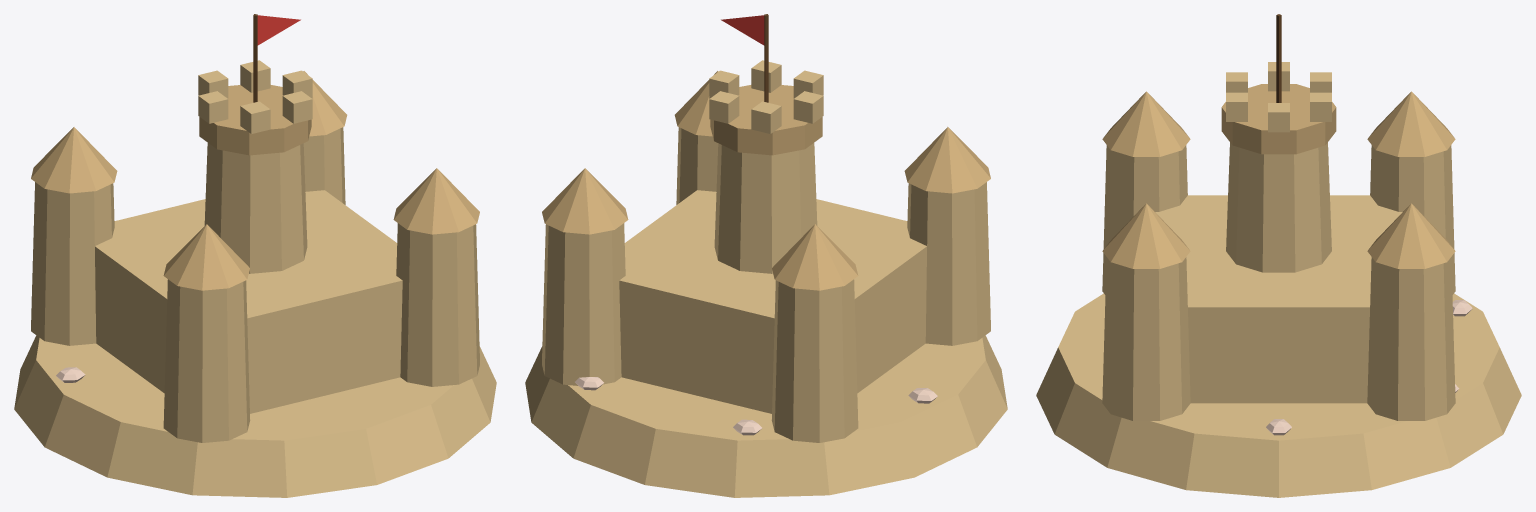
File: Prop_Sandcastle.fbx
3 renders of one model, left to right at view 1: azimuth 30°, elevation 25°; view 2: azimuth 150°, elevation 25°; view 3: azimuth 270°, elevation 25°, orthographic.
Parts seen in each view (by area): view 1: Prop_Sandcastle.001; view 2: Prop_Sandcastle.001; view 3: Prop_Sandcastle.001.
Part boxes in pixels (x1,y1,x2,y2): Prop_Sandcastle.001: [14, 14, 496, 497]; Prop_Sandcastle.001: [525, 14, 1007, 497]; Prop_Sandcastle.001: [1036, 14, 1521, 497].
Bounding box in the file's own units: 1.1 × 0.95 × 1.1.
